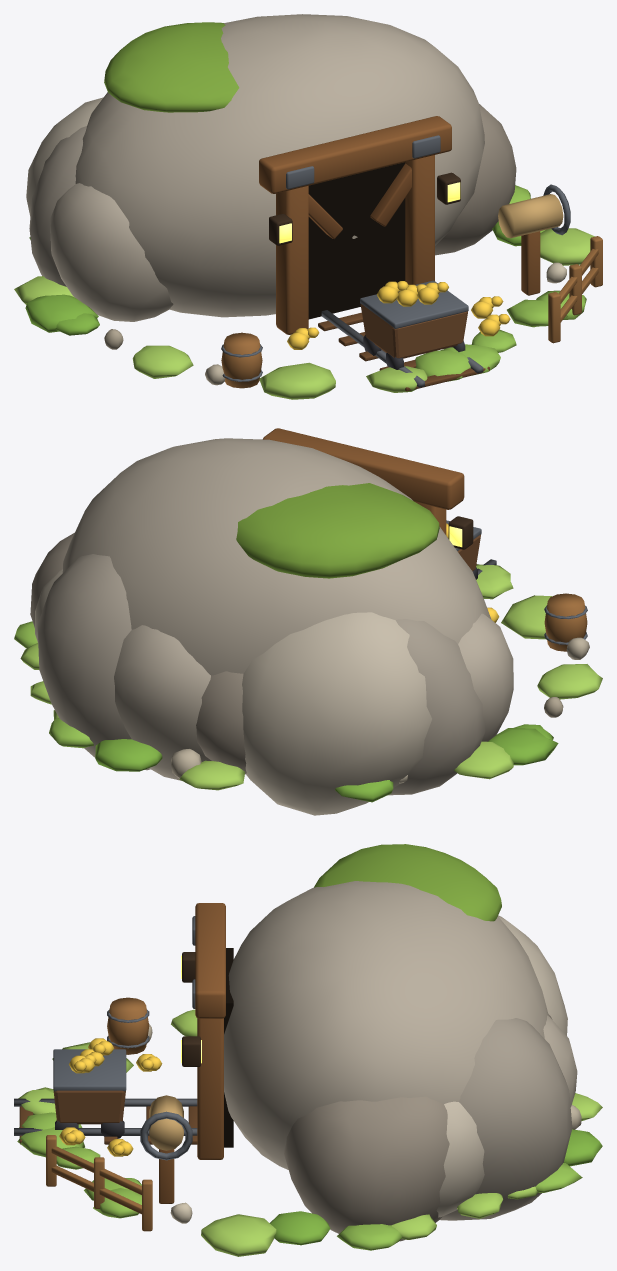
The model's file is m_standard.glb.
3 views of the same model, one above another, from view 1: azimuth 30°, elevation 25°; view 2: azimuth 150°, elevation 25°; view 3: azimuth 270°, elevation 25° (orthographic). The views are drawn at different scales.
Visible parts, largest first — view 1: root_matte#b4aa9a, root_matte#8a5a30, mouthDark, moss, root_matte#a8d060, root_matte#968c7e, root_matte#9a6a3a, root_matte#94c252, root_metal#5e646c, root_matte#a39a8c, cart, root_matte#7fb243 (+7 smaller); view 2: root_matte#b4aa9a, root_matte#c2b8a6, root_matte#a39a8c, moss, root_matte#a8d060, root_matte#8a5a30, root_matte#968c7e, root_matte#7fb243, root_matte#9a6a3a, root_matte#94c252, root_matte#b8ad98, root_matte#3a2a1c; view 3: root_matte#b4aa9a, root_matte#968c7e, root_matte#a39a8c, root_matte#8a5a30, moss, root_matte#a8d060, root_matte#c2b8a6, root_matte#9a6a3a, root_matte#94c252, root_metal#5e646c, root_matte#7fb243, cart (+5 smaller).
Part boxes in pixels (<box>): root_matte#b4aa9a: <box>50,14,484,321</box>; root_matte#8a5a30: <box>259,116,540,334</box>; mouthDark: <box>308,162,405,319</box>; moss: <box>104,22,239,112</box>; root_matte#a8d060: <box>14,228,594,399</box>; root_matte#968c7e: <box>435,104,516,255</box>; root_matte#9a6a3a: <box>221,236,602,388</box>; root_matte#94c252: <box>415,185,586,381</box>; root_metal#5e646c: <box>221,135,570,381</box>; root_matte#a39a8c: <box>29,126,86,286</box>; cart: <box>360,304,467,358</box>; root_matte#7fb243: <box>25,221,544,335</box>; root_matte#b4aa9a: <box>62,438,513,780</box>; root_matte#c2b8a6: <box>35,569,431,815</box>; root_matte#a39a8c: <box>37,554,485,795</box>; moss: <box>236,483,439,578</box>; root_matte#a8d060: <box>20,564,602,790</box>; root_matte#8a5a30: <box>263,428,464,535</box>; root_matte#968c7e: <box>30,533,246,774</box>; root_matte#7fb243: <box>95,724,558,802</box>; root_matte#9a6a3a: <box>544,593,587,651</box>; root_matte#94c252: <box>14,621,93,748</box>; root_matte#b8ad98: <box>171,637,589,778</box>; root_matte#3a2a1c: <box>448,516,473,549</box>; root_matte#b4aa9a: <box>224,881,577,1169</box>; root_matte#968c7e: <box>284,1014,552,1241</box>; root_matte#a39a8c: <box>440,1018,572,1220</box>; root_matte#8a5a30: <box>159,903,225,1203</box>; moss: <box>314,844,501,921</box>; root_matte#a8d060: <box>18,1009,602,1256</box>; root_matte#c2b8a6: <box>436,915,567,1217</box>; root_matte#9a6a3a: <box>46,997,152,1231</box>; root_matte#94c252: <box>17,1112,582,1250</box>; root_metal#5e646c: <box>53,916,195,1160</box>; root_matte#7fb243: <box>270,1129,602,1245</box>; cart: <box>53,1090,125,1124</box>.
Bounding box in the file's own units: 3.14 × 1.61 × 3.07.
